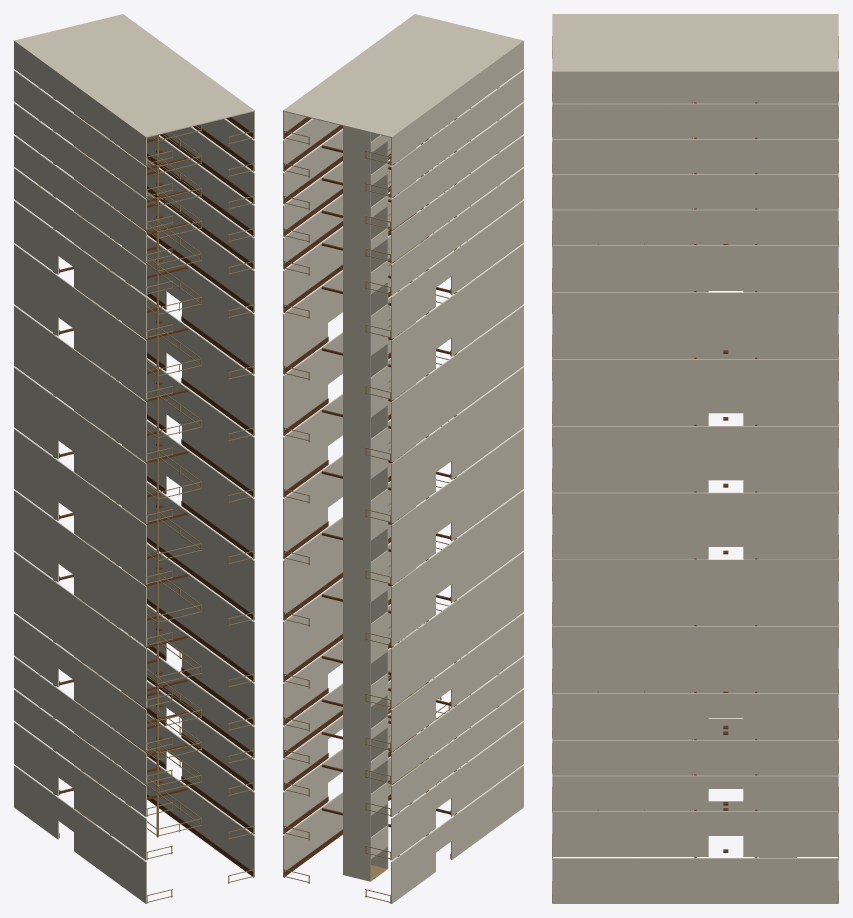
Rendered from AST-CIR-005_aft_vesper_d12.glb.
3 views of the same model, side by side, from view 1: azimuth 30°, elevation 25°; view 2: azimuth 150°, elevation 25°; view 3: azimuth 270°, elevation 25° (orthographic). The views are drawn at different scales.
Parts seen in each view (by area): view 1: CORE_BATCH_ivory_enamel, CORE_BATCH_champagne_metal, CORE_BATCH_warm_walnut, CORE_OuterWall_01_-1_Solar_Aft, CORE_OuterWall_04_-1_hydration_Aft, CORE_OuterWall_04_1_family_waiting_Aft, CORE_OuterWall_01_1_Inspection_Aft, CORE_OuterWall_02_1_Uniforms_Aft, CORE_OuterWall_04_-1_hydration_Fore, CORE_OuterWall_01_-1_Solar_Fore, CORE_OuterWall_04_1_family_waiting_Fore, CORE_OuterWall_01_1_Inspection_Fore; view 2: CORE_BATCH_ivory_enamel, CORE_BATCH_warm_walnut, CORE_BATCH_champagne_metal, CORE_OuterWall_04_-1_hydration_Aft, CORE_OuterWall_01_-1_Solar_Aft, CORE_OuterWall_01_-1_Solar_Fore, CORE_OuterWall_04_-1_hydration_Fore, CORE_OuterWall_04_1_family_waiting_Fore, CORE_OuterWall_01_1_Inspection_Fore, CORE_OuterWall_02_1_Uniforms_Fore; view 3: CORE_BATCH_ivory_enamel, CORE_OuterWall_01_1_Inspection_Aft, CORE_OuterWall_04_1_family_waiting_Aft, CORE_OuterWall_02_1_Uniforms_Aft, CORE_OuterWall_01_1_Inspection_Fore, CORE_OuterWall_04_1_family_waiting_Fore, CORE_OuterWall_02_1_Uniforms_Fore, CORE_BATCH_champagne_metal, CORE_OuterWall_01_1_Inspection_Header, CORE_OuterWall_04_1_family_waiting_Header.
Boxes of the visible parts, <box> form: CORE_BATCH_ivory_enamel: <box>14,14,254,903</box>; CORE_BATCH_champagne_metal: <box>38,87,254,903</box>; CORE_BATCH_warm_walnut: <box>53,97,253,875</box>; CORE_OuterWall_01_-1_Solar_Aft: <box>74,766,146,860</box>; CORE_OuterWall_04_-1_hydration_Aft: <box>74,657,146,751</box>; CORE_OuterWall_04_1_family_waiting_Aft: <box>182,631,254,725</box>; CORE_OuterWall_01_1_Inspection_Aft: <box>182,739,254,833</box>; CORE_OuterWall_02_1_Uniforms_Aft: <box>182,707,254,790</box>; CORE_OuterWall_04_-1_hydration_Fore: <box>14,613,58,687</box>; CORE_OuterWall_01_-1_Solar_Fore: <box>14,722,58,795</box>; CORE_OuterWall_04_1_family_waiting_Fore: <box>147,605,166,660</box>; CORE_OuterWall_01_1_Inspection_Fore: <box>147,714,166,769</box>; CORE_BATCH_ivory_enamel: <box>283,14,523,903</box>; CORE_BATCH_warm_walnut: <box>284,117,456,875</box>; CORE_BATCH_champagne_metal: <box>283,87,499,903</box>; CORE_OuterWall_04_-1_hydration_Aft: <box>451,613,523,707</box>; CORE_OuterWall_01_-1_Solar_Aft: <box>451,722,523,816</box>; CORE_OuterWall_01_-1_Solar_Fore: <box>391,786,435,860</box>; CORE_OuterWall_04_-1_hydration_Fore: <box>391,678,435,751</box>; CORE_OuterWall_04_1_family_waiting_Fore: <box>283,651,327,725</box>; CORE_OuterWall_01_1_Inspection_Fore: <box>283,760,327,833</box>; CORE_OuterWall_02_1_Uniforms_Fore: <box>283,727,327,790</box>; CORE_BATCH_ivory_enamel: <box>552,14,838,903</box>; CORE_OuterWall_01_1_Inspection_Aft: <box>552,811,708,856</box>; CORE_OuterWall_04_1_family_waiting_Aft: <box>552,693,708,738</box>; CORE_OuterWall_02_1_Uniforms_Aft: <box>552,775,708,809</box>; CORE_OuterWall_01_1_Inspection_Fore: <box>743,811,838,856</box>; CORE_OuterWall_04_1_family_waiting_Fore: <box>743,693,838,738</box>; CORE_OuterWall_02_1_Uniforms_Fore: <box>743,775,838,809</box>; CORE_BATCH_champagne_metal: <box>552,36,838,902</box>; CORE_OuterWall_01_1_Inspection_Header: <box>708,811,743,835</box>; CORE_OuterWall_04_1_family_waiting_Header: <box>708,693,743,717</box>.
Bounding box in the file's own units: 15.76 × 106 × 33.08.
4 materials, 3 textured.
